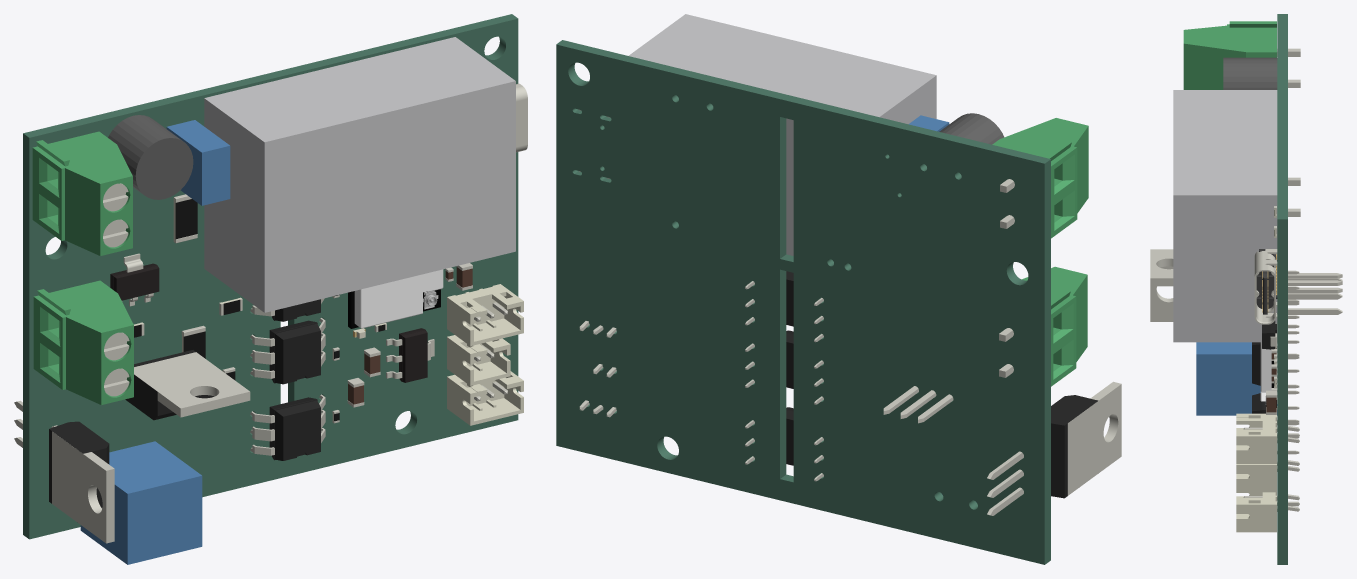
File: board.glb
The picture shows the model from 3 angles, left to right: view 1: azimuth 30°, elevation 25°; view 2: azimuth 150°, elevation 25°; view 3: azimuth 270°, elevation 25°; orthographic projection. The views are drawn at different scales.
Visible parts, largest first — view 1: PS1, =>[0:1:1:32], J2, =>[0:1:1:19]_5027ec, =>[0:1:1:19]_1_17aa9f, =>[0:1:1:27]_1_7a3492, F1, =>[0:1:1:27]_435ad6, =>[0:1:1:5], RV1, =>[0:1:1:11]_68d417, =>[0:1:1:5]_1_761bd7 (+14 smaller); view 2: =>[0:1:1:32], PS1, =>[0:1:1:27]_1_7a3492, =>[0:1:1:19]_5027ec, =>[0:1:1:19]_1_17aa9f, =>[0:1:1:27]_1_f52536, F1, =>[0:1:1:27]_435ad6; view 3: PS1, =>[0:1:1:32], =>[0:1:1:19]_5027ec, J2, =>[0:1:1:5], =>[0:1:1:27]_435ad6, F1, =>[0:1:1:27]_1_7a3492, =>[0:1:1:5]_1_761bd7, =>[0:1:1:9]_e58876, =>[0:1:1:29]_8ecd70, =>[0:1:1:29]_c38556 (+5 smaller).
Part boxes in pixels (bbox=[...]): PS1: bbox=[204, 37, 515, 312]; =>[0:1:1:32]: bbox=[23, 14, 518, 539]; J2: bbox=[80, 441, 202, 564]; =>[0:1:1:19]_5027ec: bbox=[32, 131, 132, 255]; =>[0:1:1:19]_1_17aa9f: bbox=[33, 280, 133, 404]; =>[0:1:1:27]_1_7a3492: bbox=[14, 400, 114, 543]; F1: bbox=[108, 115, 193, 199]; =>[0:1:1:27]_435ad6: bbox=[134, 352, 250, 417]; =>[0:1:1:5]: bbox=[447, 284, 523, 346]; RV1: bbox=[166, 120, 230, 205]; =>[0:1:1:11]_68d417: bbox=[354, 269, 443, 328]; =>[0:1:1:5]_1_761bd7: bbox=[447, 371, 523, 425]; =>[0:1:1:32]: bbox=[556, 40, 1050, 564]; PS1: bbox=[628, 14, 936, 255]; =>[0:1:1:27]_1_7a3492: bbox=[987, 381, 1121, 515]; =>[0:1:1:19]_5027ec: bbox=[992, 118, 1088, 238]; =>[0:1:1:19]_1_17aa9f: bbox=[1022, 266, 1087, 386]; =>[0:1:1:27]_1_f52536: bbox=[1051, 395, 1098, 498]; F1: bbox=[939, 113, 1004, 144]; =>[0:1:1:27]_435ad6: bbox=[883, 386, 953, 423]; PS1: bbox=[1173, 90, 1277, 342]; =>[0:1:1:32]: bbox=[1277, 14, 1287, 564]; =>[0:1:1:19]_5027ec: bbox=[1183, 21, 1276, 89]; J2: bbox=[1196, 342, 1277, 415]; =>[0:1:1:5]: bbox=[1236, 413, 1299, 463]; =>[0:1:1:27]_435ad6: bbox=[1150, 249, 1342, 293]; F1: bbox=[1223, 57, 1277, 89]; =>[0:1:1:27]_1_7a3492: bbox=[1150, 266, 1342, 321]; =>[0:1:1:5]_1_761bd7: bbox=[1236, 492, 1276, 532]; =>[0:1:1:9]_e58876: bbox=[1236, 464, 1276, 492]; =>[0:1:1:29]_8ecd70: bbox=[1254, 249, 1277, 324]; =>[0:1:1:29]_c38556: bbox=[1256, 249, 1277, 314].
Bounding box in the file's own units: 72 × 57 × 28.52.
